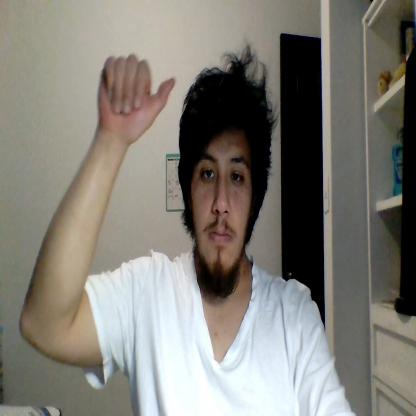A: (96, 54, 176, 144)
